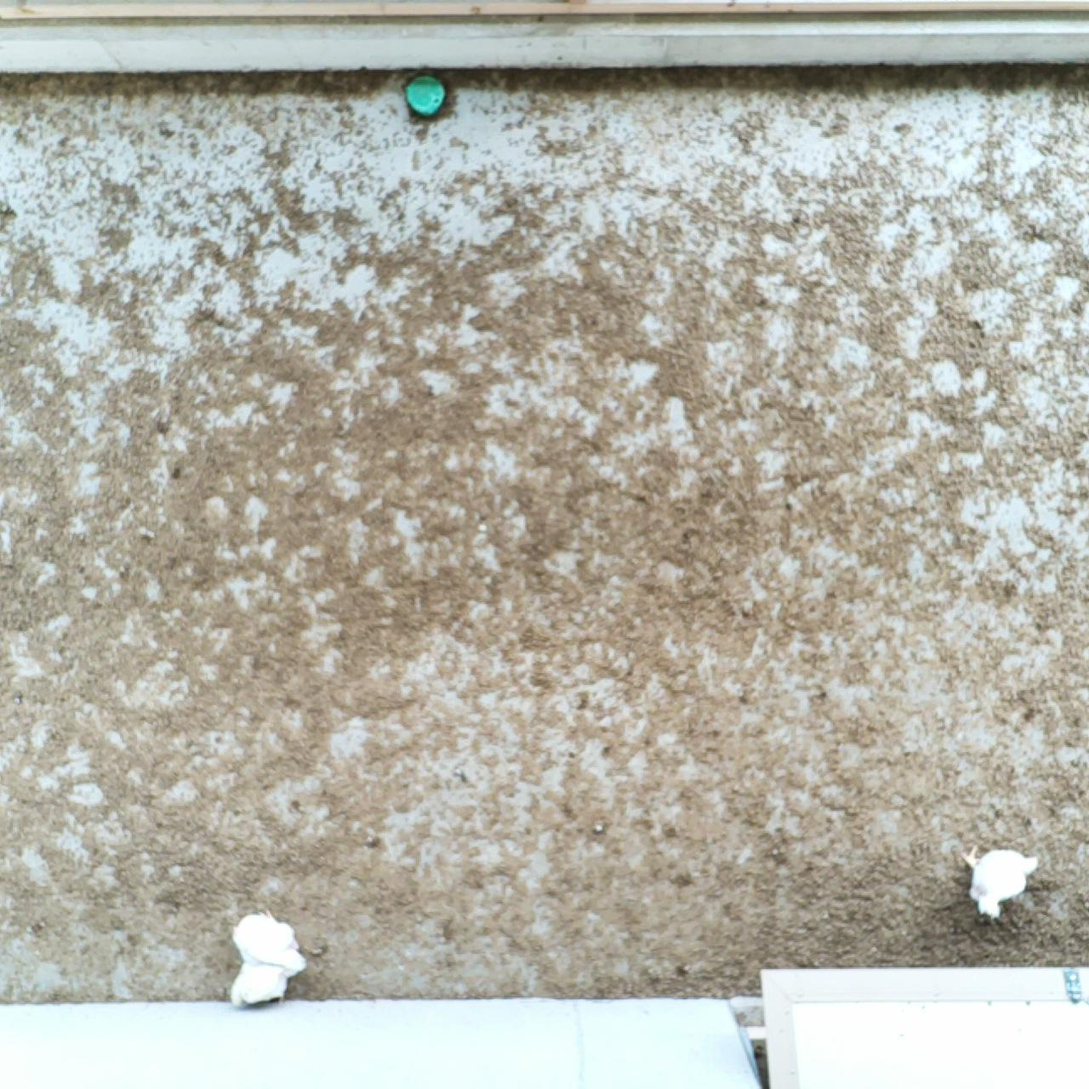chicken: (958, 838, 1043, 923), (230, 904, 309, 979), (228, 955, 289, 1012)
